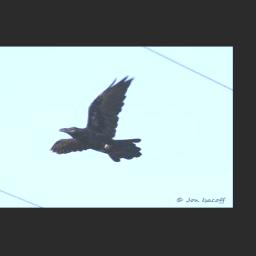Crow: (49, 74, 142, 162)
